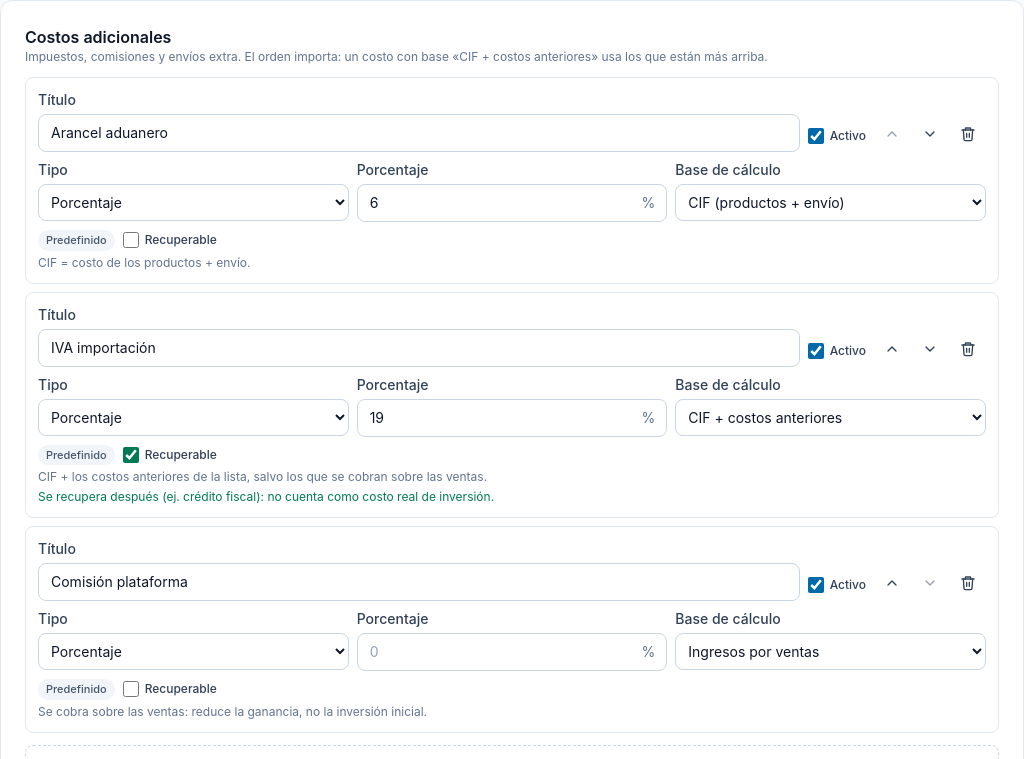
CostList › cambia el tipo a monto fijo y muestra el modo
Select "Monto fijo" in the 2nd dropdown labelled "Tipo". click: (193, 417)
box: [38, 398, 349, 436]
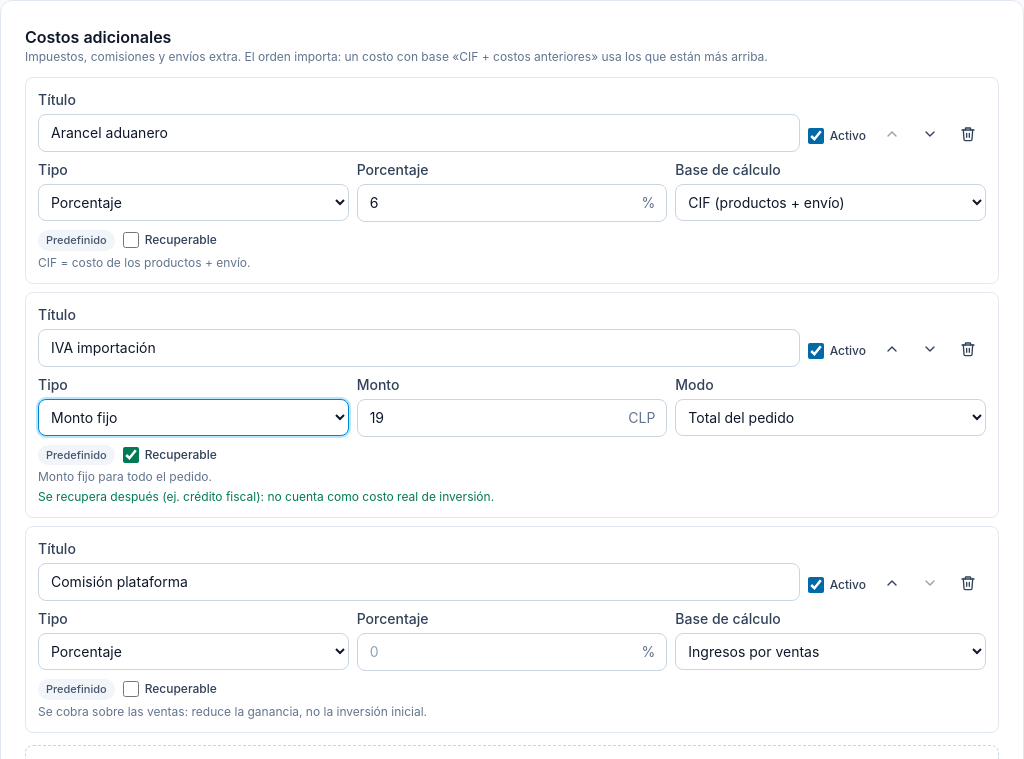
Check: the text "Modo" is shown, box [675, 376, 714, 392]
Check: the text "Monto fijo para todo el pedido." is shown, box [38, 469, 212, 484]
